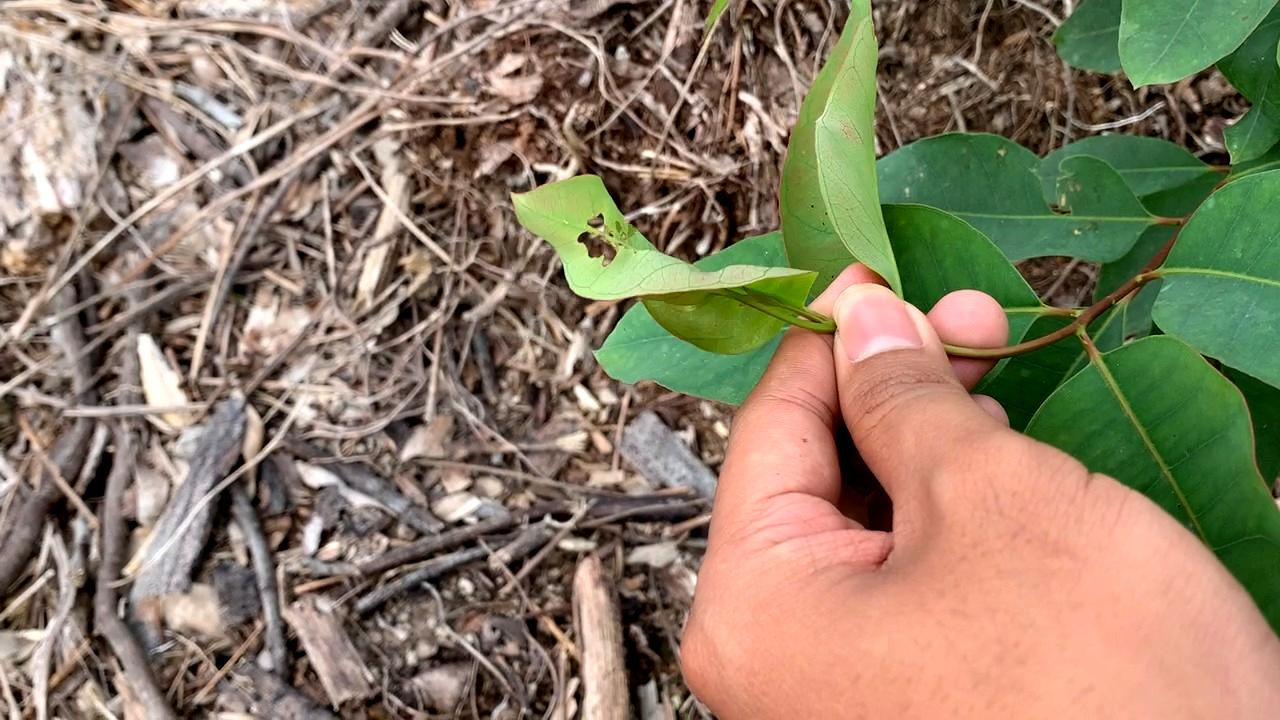Leaf Roller - Leaf: (499, 163, 836, 386)
